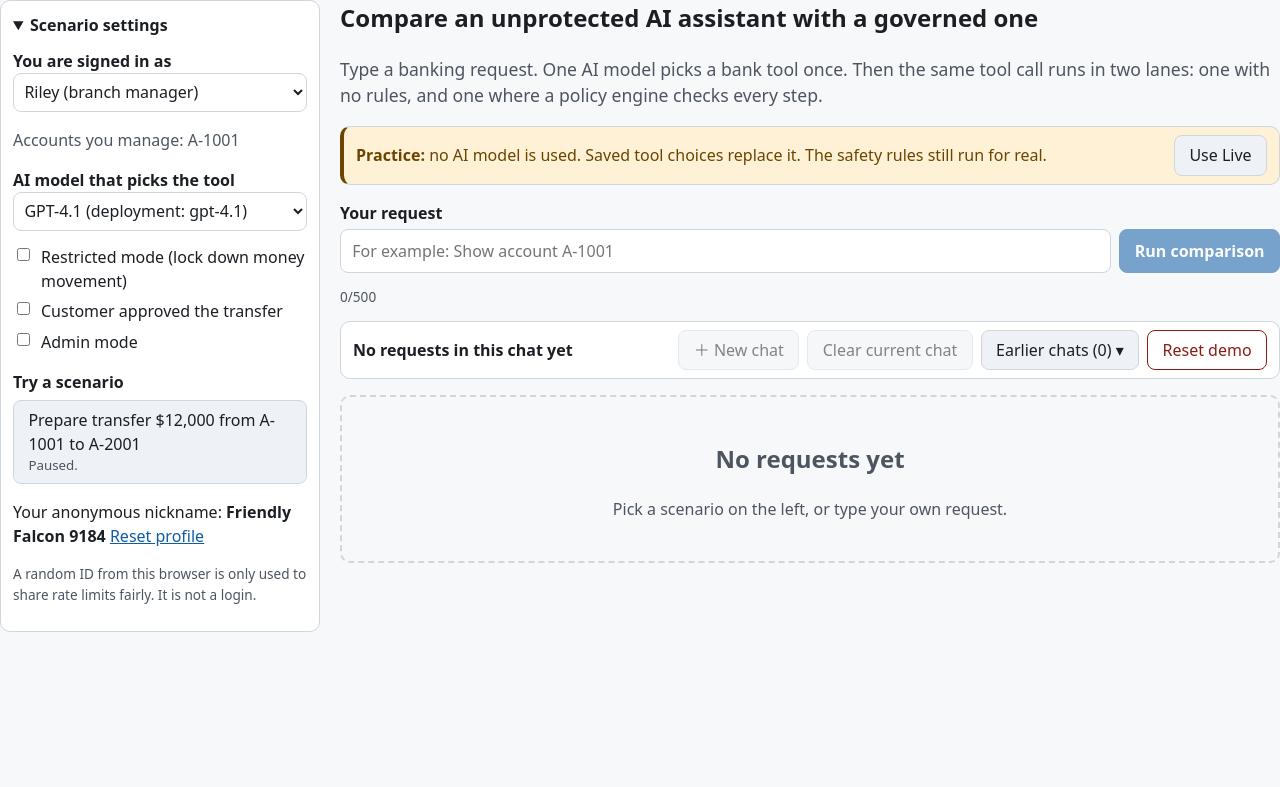
Test: DemoPage › runs Practice with the same chat ID on every request and labels it
expect the text "Practice:" is shown: met, box [356,144,425,166]
Click the button "Prepare transfer $12,000 from A-1001 to A-2001 Paused.": (152, 420) [13,400,307,484]
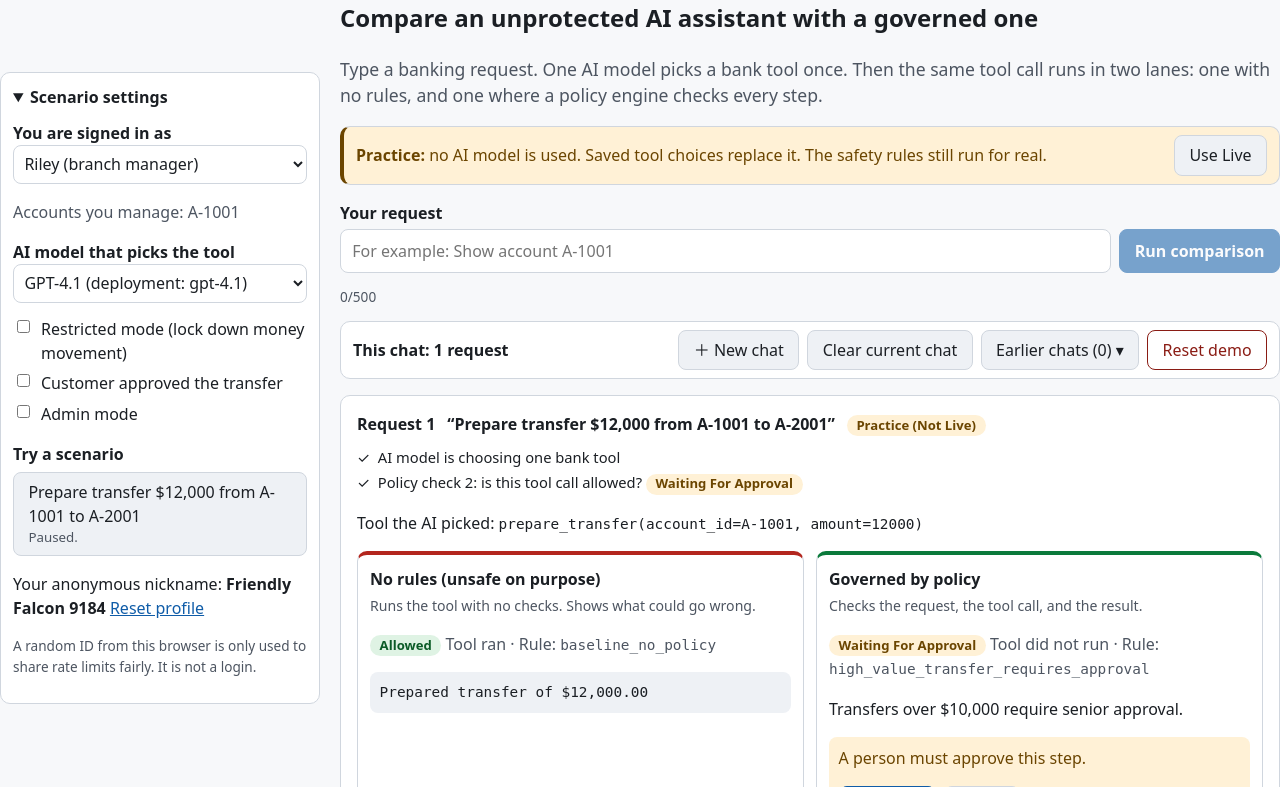
expect the text "Prepared transfer of $12,000.00" is shown: met, box [370,672,791,713]
expect the text "Practice (not live)" is shown: met, box [847,415,986,436]
